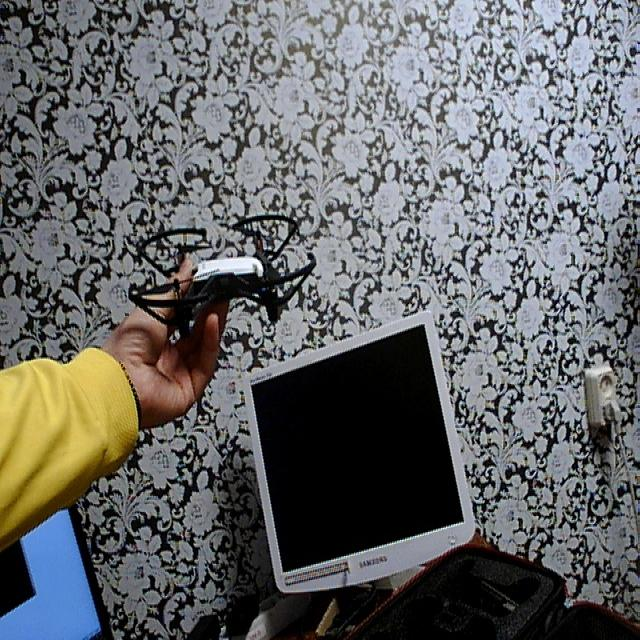drone: (131, 196, 324, 349)
